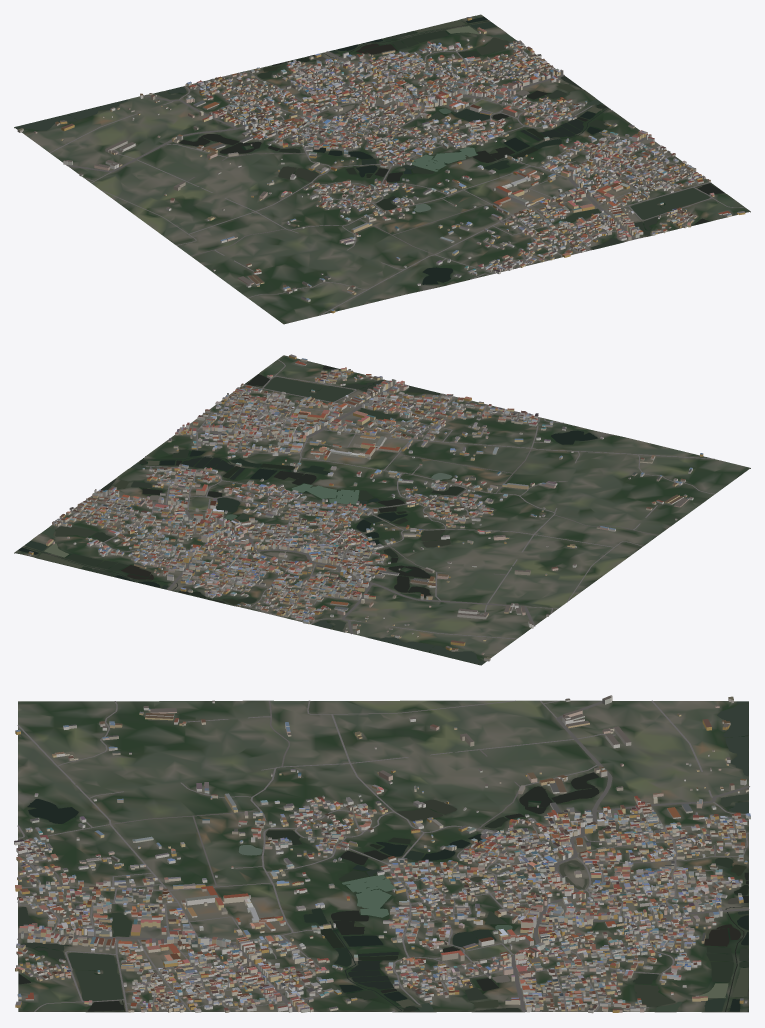
3 views of the same model, one above another, from view 1: azimuth 30°, elevation 25°; view 2: azimuth 150°, elevation 25°; view 3: azimuth 270°, elevation 25° (orthographic). The views are drawn at different scales.
Parts seen in each view (by area): view 1: ground, buildings, water, roads; view 2: ground, buildings, water, roads; view 3: ground, buildings, water, roads.
Part boxes in pixels (box(x1,y1,x2,y2)): ground: box(14, 14, 750, 324); buildings: box(17, 17, 745, 313); water: box(15, 14, 724, 284); roads: box(49, 45, 744, 315); ground: box(14, 355, 750, 665); buildings: box(28, 354, 703, 661); water: box(15, 365, 597, 664); roads: box(57, 359, 714, 638); ground: box(18, 700, 748, 1012); buildings: box(14, 695, 750, 1013); water: box(18, 701, 748, 1011); roads: box(17, 700, 749, 1011).
Size of the model in its own units: 1414 by 24.27 by 1413.
